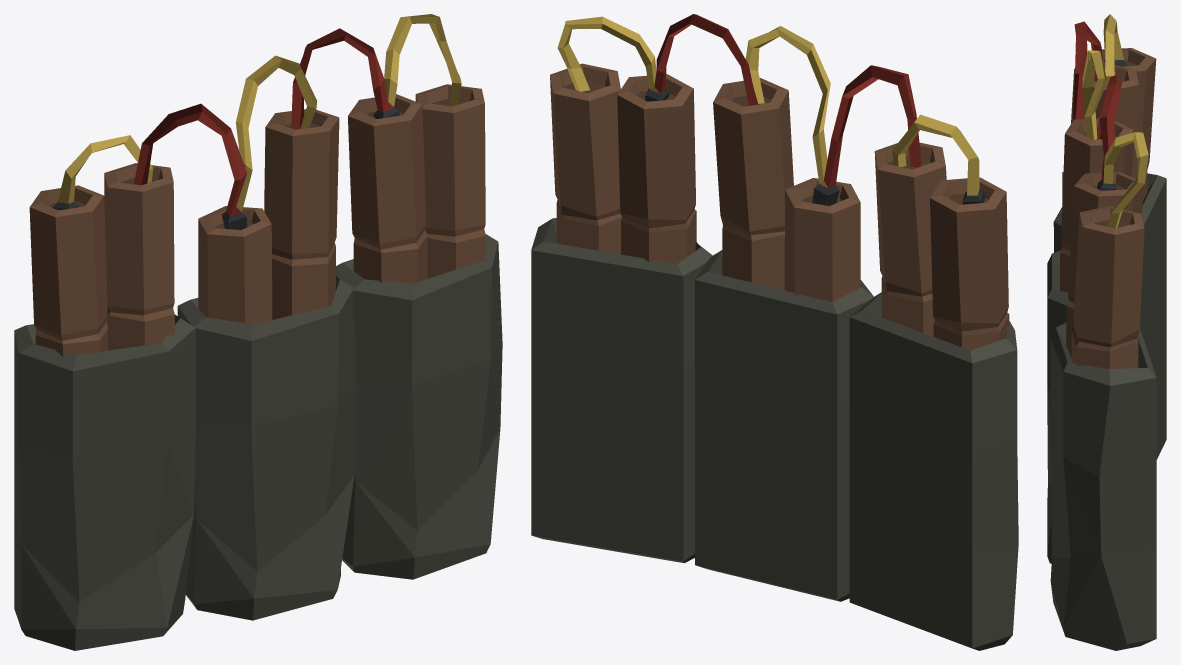
Rendered from SM_Chr_Attach_Bomb_Dynamite_02.fbx.
3 renders of one model, left to right at view 1: azimuth 30°, elevation 25°; view 2: azimuth 150°, elevation 25°; view 3: azimuth 270°, elevation 25°, orthographic. The views are drawn at different scales.
Parts seen in each view (by area): view 1: SM_Chr_Attach_Bomb_Dynamite_02; view 2: SM_Chr_Attach_Bomb_Dynamite_02; view 3: SM_Chr_Attach_Bomb_Dynamite_02.
Part boxes in pixels (x1=…): SM_Chr_Attach_Bomb_Dynamite_02: x1=14, y1=14, x2=502, y2=650; SM_Chr_Attach_Bomb_Dynamite_02: x1=531, y1=14, x2=1018, y2=650; SM_Chr_Attach_Bomb_Dynamite_02: x1=1047, y1=14, x2=1166, y2=650.
Bounding box in the file's own units: 27.53 × 29.78 × 6.42.
